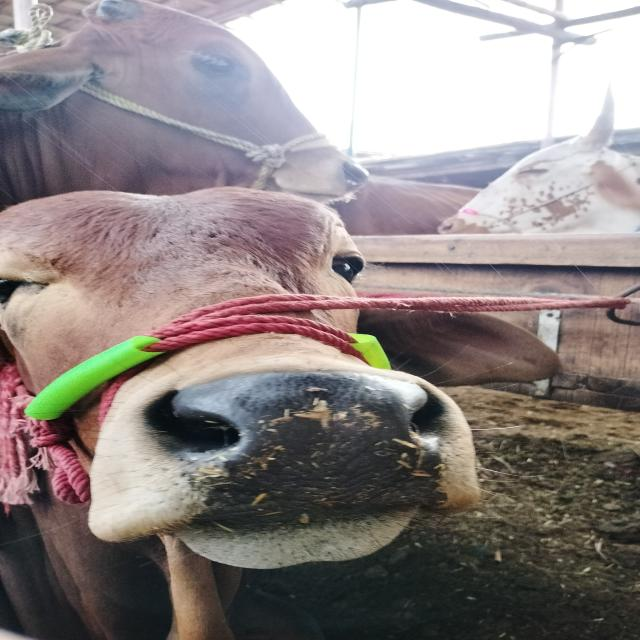muzzles: (142, 362, 462, 526)
